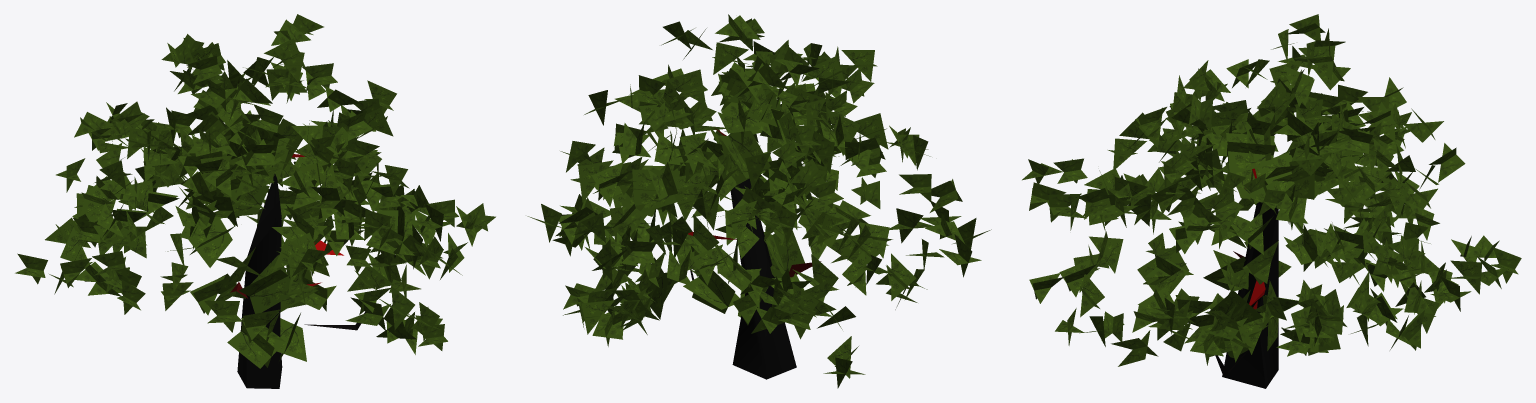
File: oak8 lod4.FBX
3 renders of one model, left to right at view 1: azimuth 30°, elevation 25°; view 2: azimuth 150°, elevation 25°; view 3: azimuth 270°, elevation 25°, orthographic. The views are drawn at different scales.
Parts seen in each view (by area): view 1: oak8_LOD4; view 2: oak8_LOD4; view 3: oak8_LOD4.
Part boxes in pixels (x1,y1,x2,y2): oak8_LOD4: [15, 14, 495, 388]; oak8_LOD4: [527, 14, 991, 388]; oak8_LOD4: [1022, 14, 1521, 388].
Size of the model in its own units: 176529 by 144084 by 194551.
